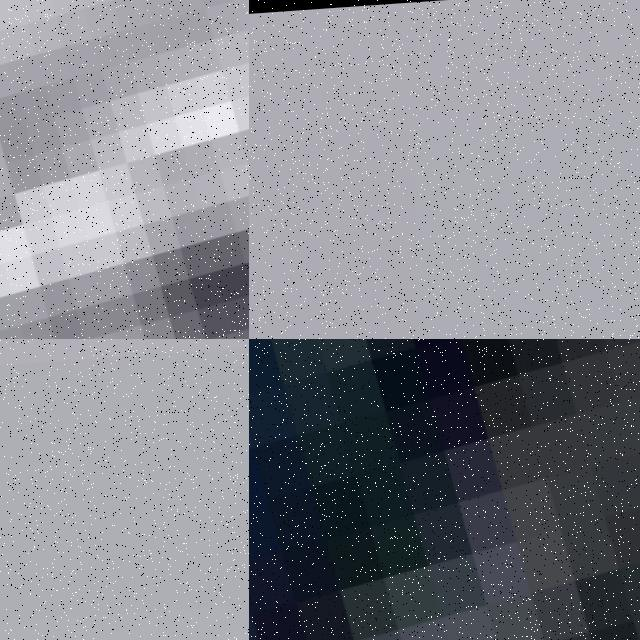drone: (249, 339, 640, 640), (0, 0, 249, 339)
